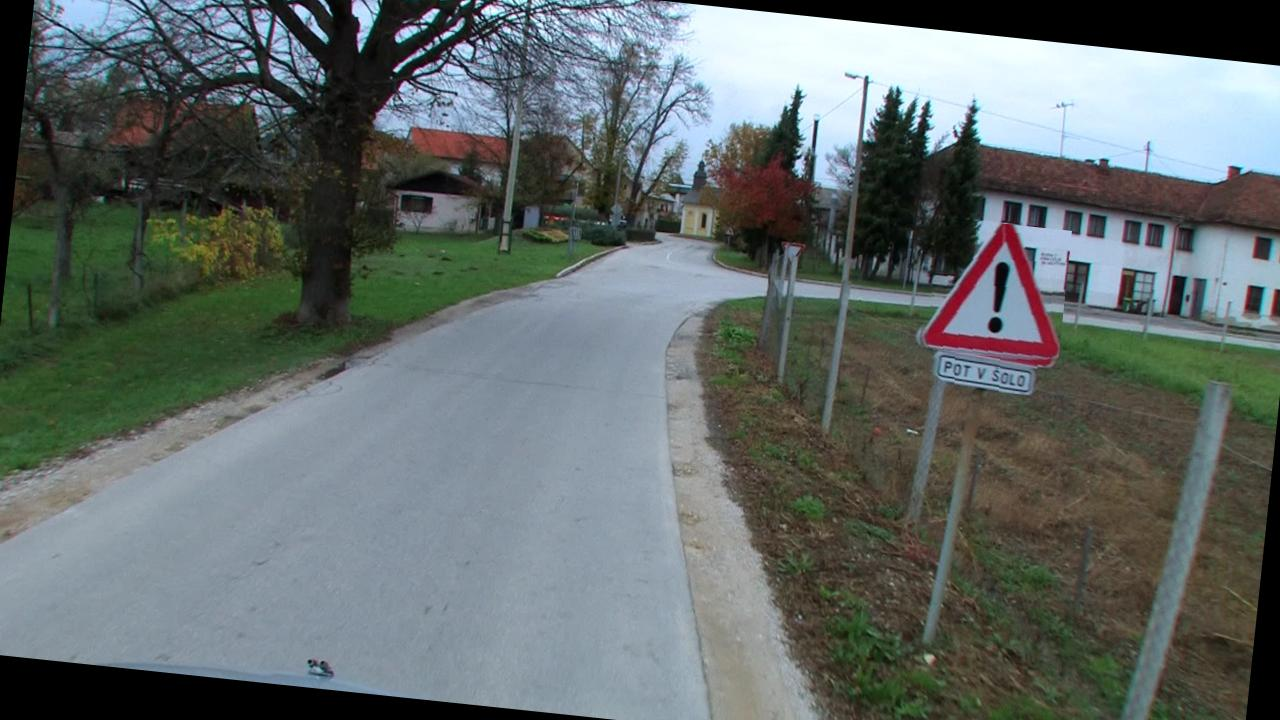Rectangle: (929, 349, 1038, 395)
Triangle: (914, 215, 1072, 370)
